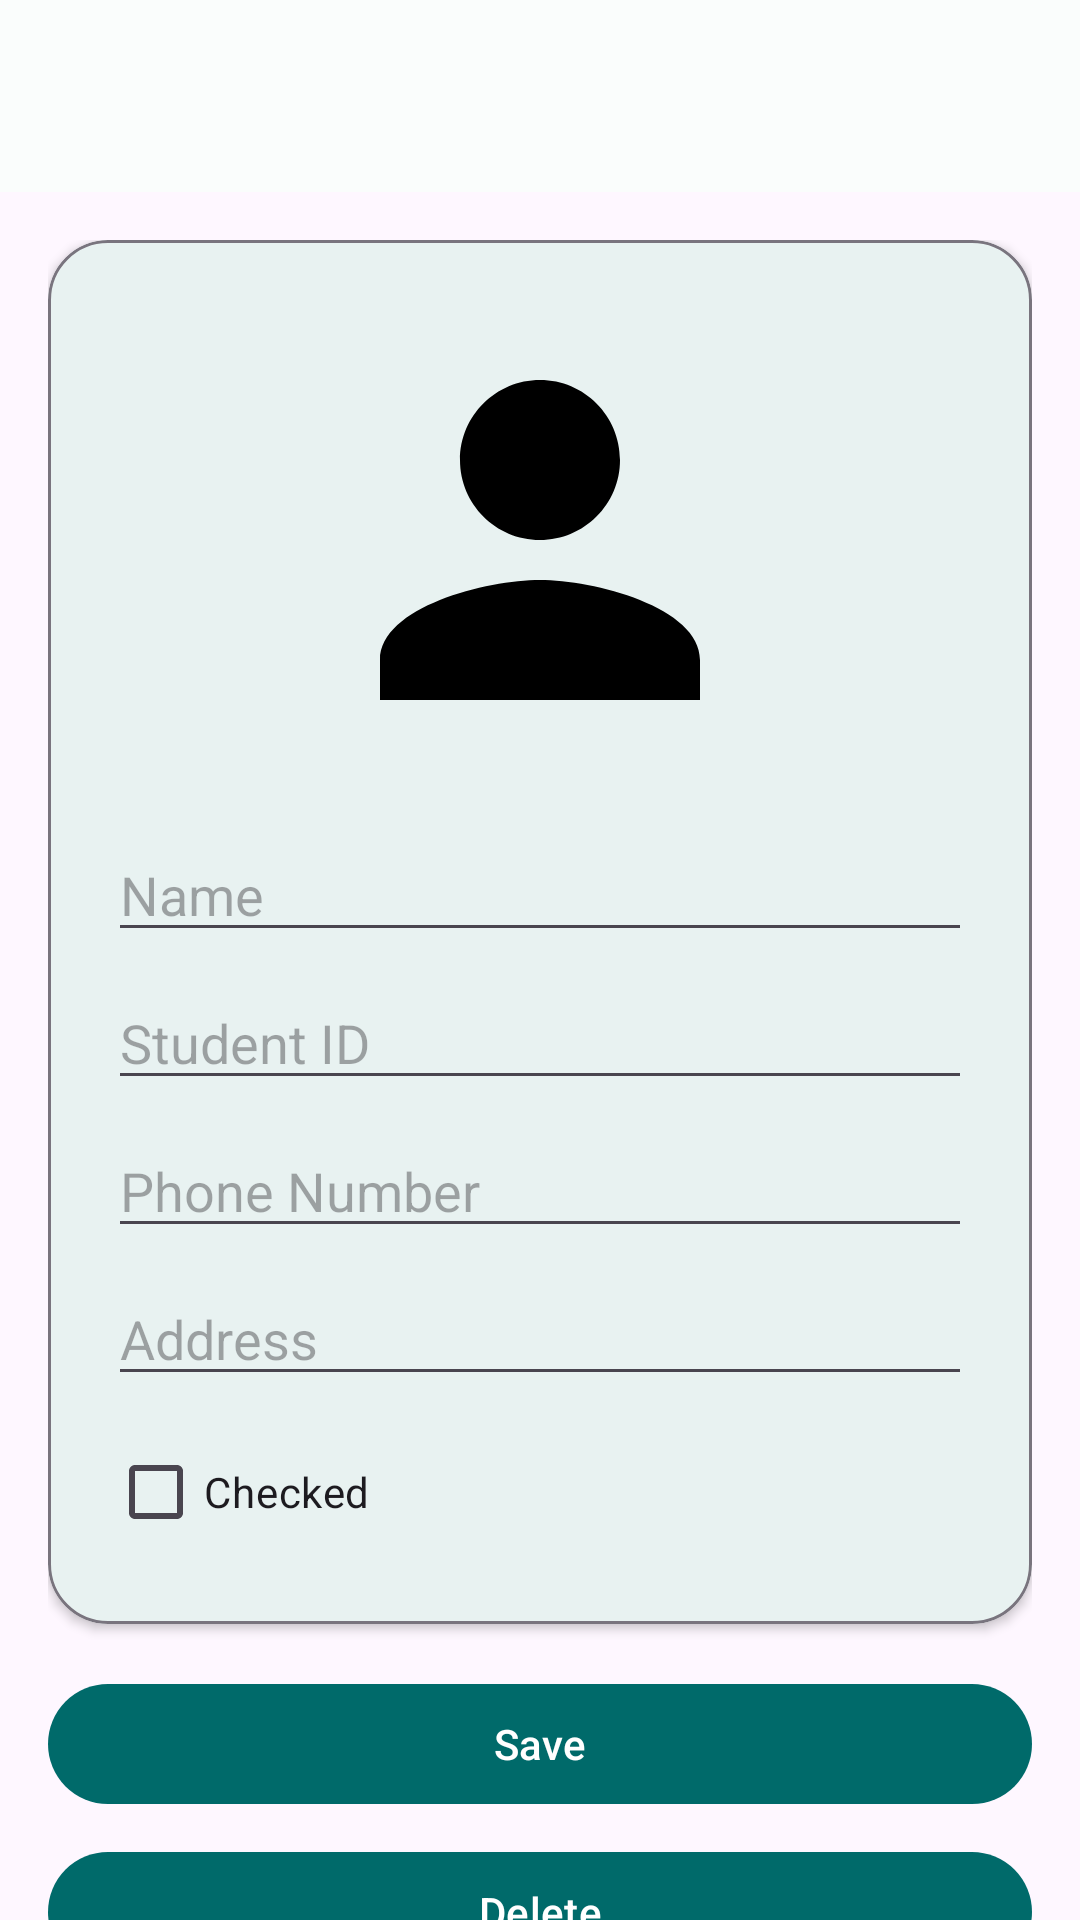

Where icons sit on this 1080*1920 app screen, as (x1, y1, x2, y2):
person: (380, 380, 700, 700)
